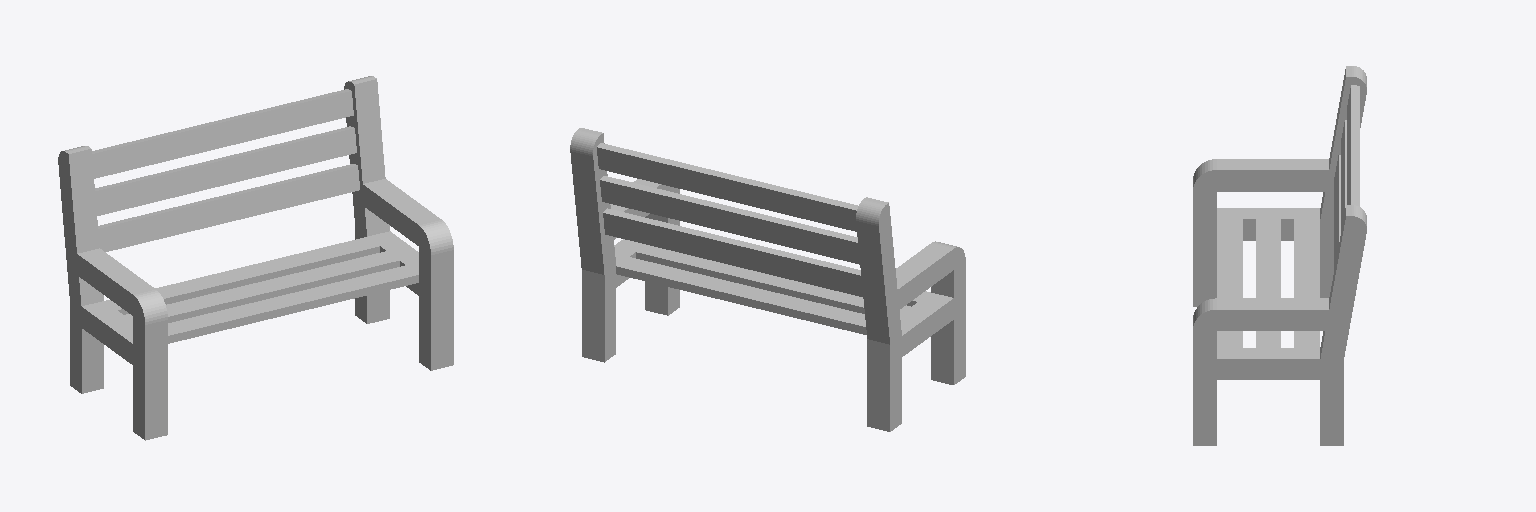
Rendered from bench.obj.
3 renders of one model, left to right at view 1: azimuth 30°, elevation 25°; view 2: azimuth 150°, elevation 25°; view 3: azimuth 270°, elevation 25°, orthographic.
Visible parts, largest first — view 1: bench; view 2: bench; view 3: bench.
Boxes of the visible parts, <box> form: bench: <box>58,76,453,440</box>; bench: <box>570,128,965,431</box>; bench: <box>1193,66,1366,445</box>.
Bounding box in the file's own units: 0.7695 × 0.549 × 0.3763.